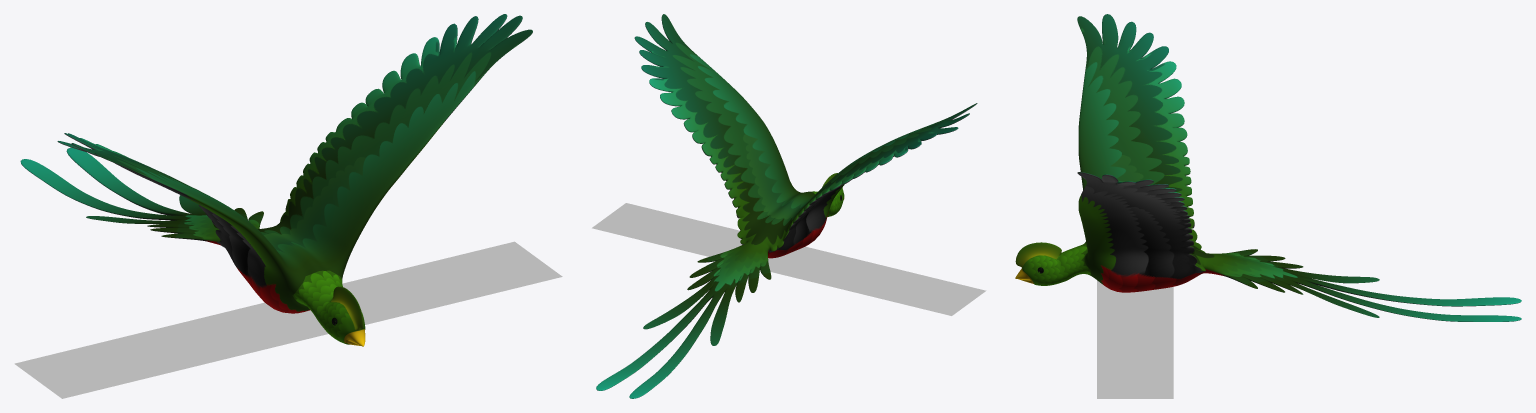
Rendered from bird1.obj.
3 views of the same model, side by side, from view 1: azimuth 30°, elevation 25°; view 2: azimuth 150°, elevation 25°; view 3: azimuth 270°, elevation 25° (orthographic). The views are drawn at different scales.
Visible parts, largest first — view 1: Quetzal, punta-r_Plane.003, punta-l_Plane.002; view 2: Quetzal, punta-l_Plane.002, punta-r_Plane.003; view 3: Quetzal, punta-l_Plane.002, punta-r_Plane.003.
Part boxes in pixels (left/top/right/bottom): Quetzal: left=20, top=14, right=532, bottom=346; punta-r_Plane.003: left=77, top=241, right=562, bottom=375; punta-l_Plane.002: left=14, top=320, right=384, bottom=398; Quetzal: left=596, top=14, right=977, bottom=398; punta-l_Plane.002: left=637, top=214, right=986, bottom=315; punta-r_Plane.003: left=592, top=203, right=923, bottom=304; Quetzal: left=1015, top=14, right=1521, bottom=321; punta-l_Plane.002: left=1097, top=280, right=1173, bottom=374; punta-r_Plane.003: left=1097, top=286, right=1173, bottom=398.
Size of the model in its own units: 0.96 by 0.5073 by 1.05.
2 materials, 1 textured.
